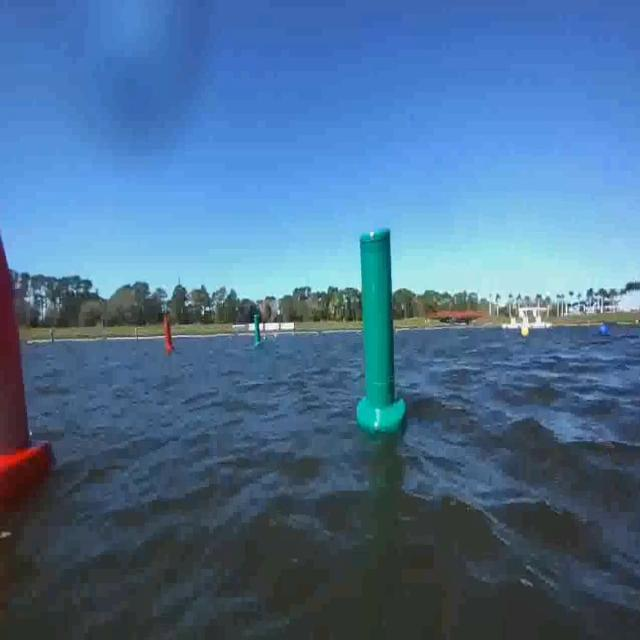blue-buoy: (597, 324, 608, 341)
green-column-buoy: (355, 229, 406, 435), (251, 314, 263, 348)
red-column-buoy: (0, 138, 53, 494), (162, 318, 174, 352)
yellow-buoy: (522, 325, 530, 338)
